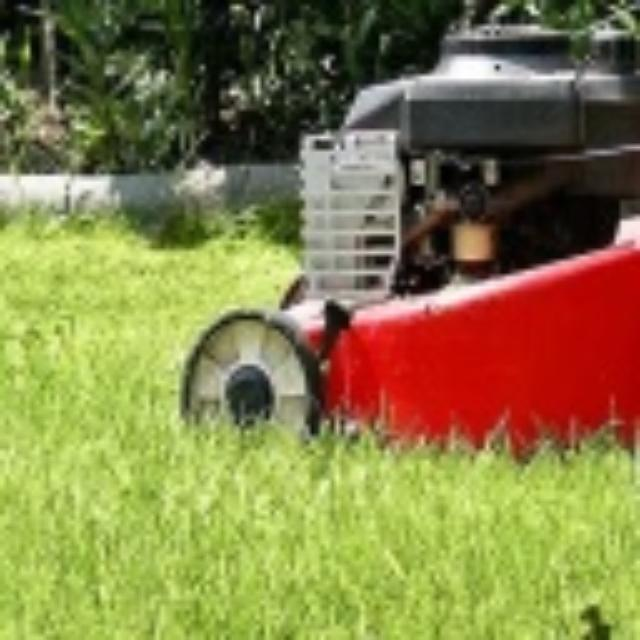Rotary-Mower: (175, 0, 635, 460)
